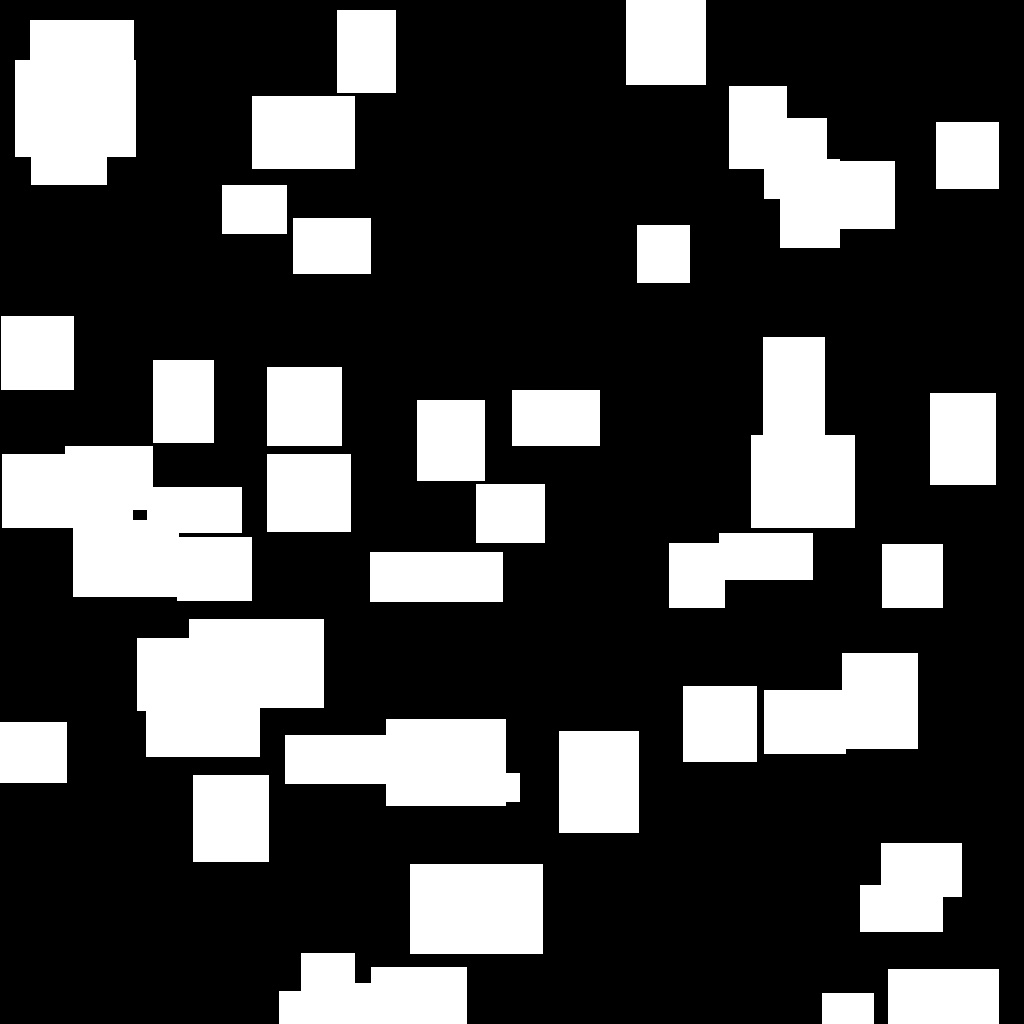wheat_head: (189, 619, 323, 707), (410, 864, 542, 953), (15, 60, 135, 156), (386, 719, 505, 805), (2, 454, 132, 527), (751, 435, 854, 527), (763, 337, 824, 473), (146, 684, 259, 756), (73, 520, 178, 596), (559, 731, 638, 832), (30, 20, 133, 96), (137, 638, 242, 710), (252, 96, 354, 168), (842, 653, 917, 748), (626, 0, 705, 84), (370, 552, 502, 601), (193, 775, 268, 861), (267, 454, 350, 531), (888, 969, 998, 1024), (930, 393, 995, 484), (285, 735, 408, 783), (267, 367, 341, 445), (811, 161, 894, 228), (65, 446, 152, 509), (683, 686, 756, 761), (371, 967, 466, 1024), (417, 400, 484, 480), (1, 316, 73, 389), (780, 159, 839, 247), (764, 690, 845, 753), (764, 118, 826, 198), (153, 360, 213, 442), (512, 390, 599, 445), (337, 10, 395, 92), (729, 86, 786, 168), (177, 537, 251, 600), (719, 533, 812, 579), (881, 843, 961, 896), (293, 218, 370, 273), (147, 487, 241, 532), (936, 122, 998, 188), (0, 722, 66, 782), (476, 484, 544, 542), (31, 133, 106, 184), (882, 544, 942, 607), (860, 885, 942, 931), (669, 543, 724, 607), (222, 185, 286, 233), (637, 225, 689, 282), (338, 983, 403, 1024), (279, 991, 357, 1024), (301, 953, 354, 1001), (822, 993, 873, 1024), (484, 773, 519, 801)
